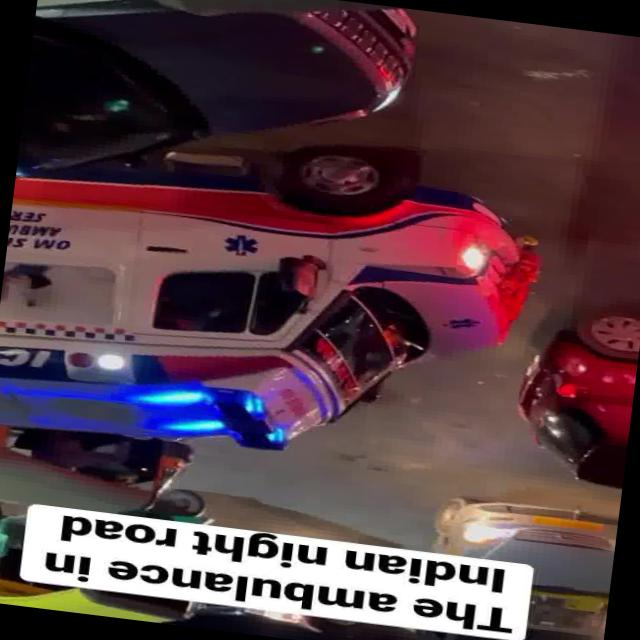ambulance: (0, 135, 546, 494)
